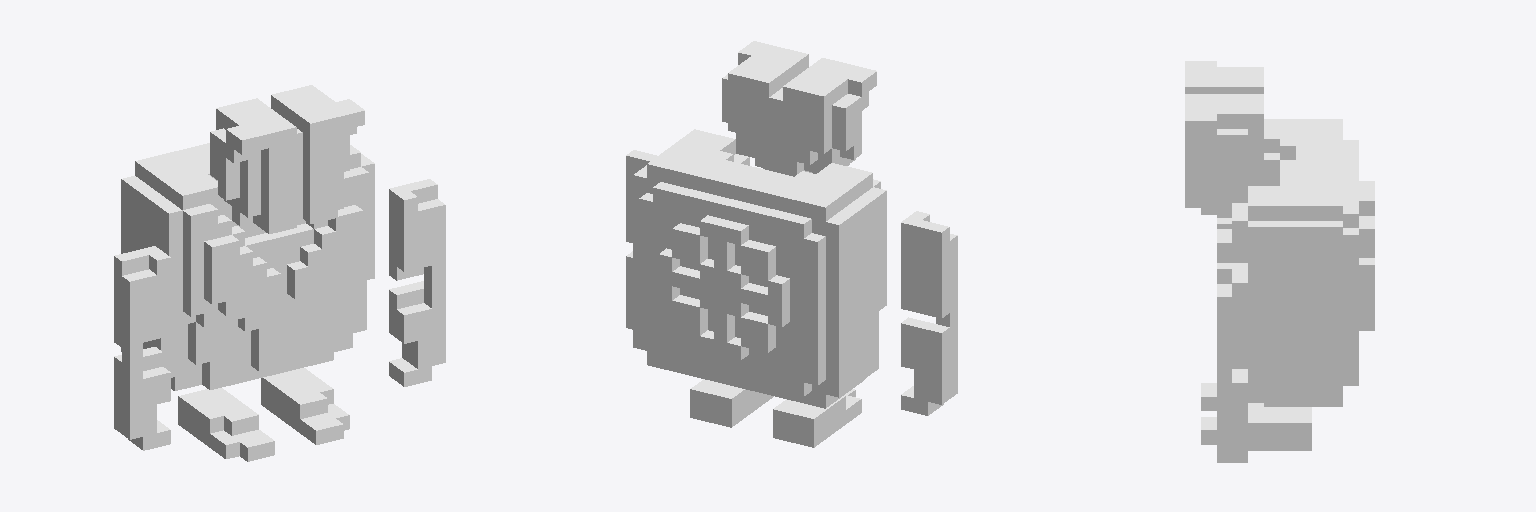
File: golem.obj
3 views of the same model, side by side, from view 1: azimuth 30°, elevation 25°; view 2: azimuth 150°, elevation 25°; view 3: azimuth 270°, elevation 25° (orthographic).
Parts seen in each view (by area): view 1: golem; view 2: golem; view 3: golem.
Part boxes in pixels (x1,y1,x2,y2): golem: (114,85,445,461); golem: (626,41,957,447); golem: (1185,61,1374,462).
Size of the model in its own units: 23 by 23 by 12.